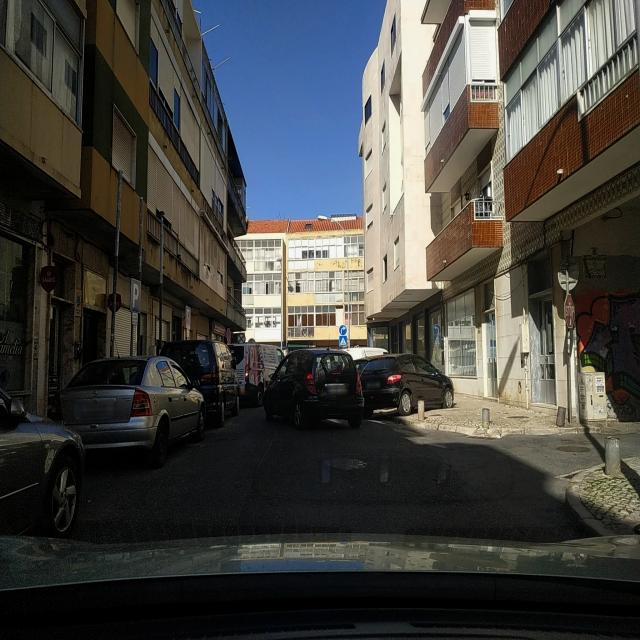car: (60, 354, 206, 468), (0, 351, 85, 538), (264, 347, 364, 430), (158, 338, 240, 426), (359, 352, 455, 417), (226, 342, 266, 406)
